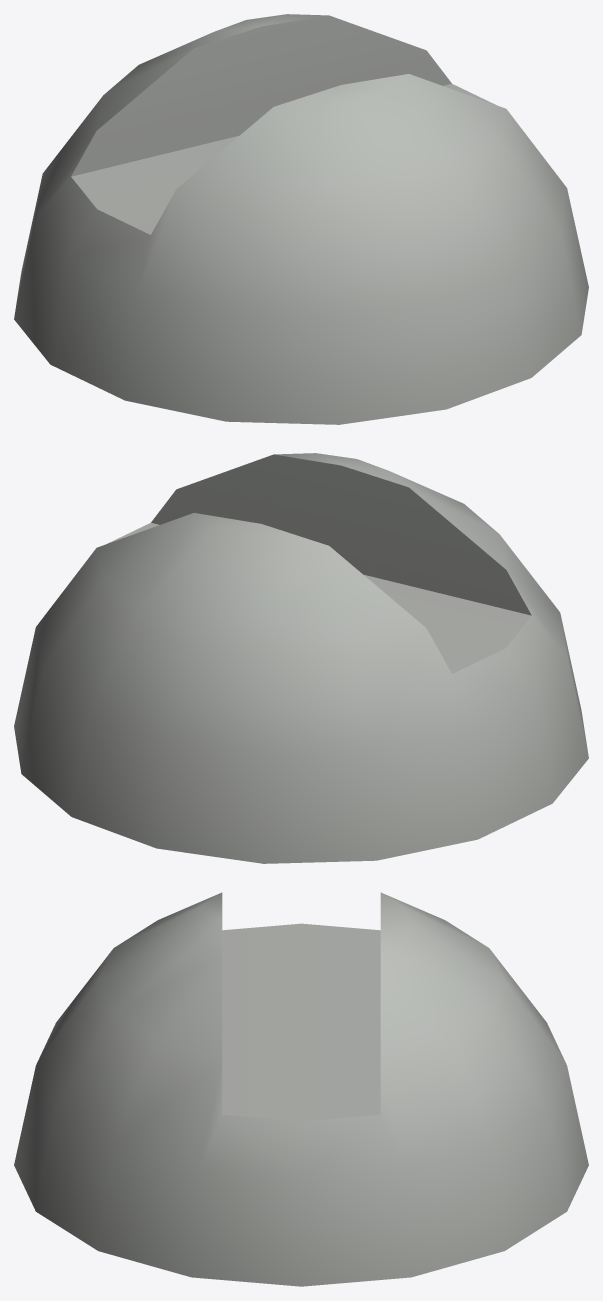
Rendered from Screw_Dash.fbx.
The picture shows the model from 3 angles, top to bottom: view 1: azimuth 30°, elevation 25°; view 2: azimuth 150°, elevation 25°; view 3: azimuth 270°, elevation 25°; orthographic projection.
Visible parts, largest first — view 1: Screw_Dash; view 2: Screw_Dash; view 3: Screw_Dash.
Part boxes in pixels (x1,y1,x2,y2): Screw_Dash: [14, 14, 588, 424]; Screw_Dash: [14, 453, 588, 863]; Screw_Dash: [14, 892, 588, 1286].
Size of the model in its own units: 136 by 64.19 by 136.
